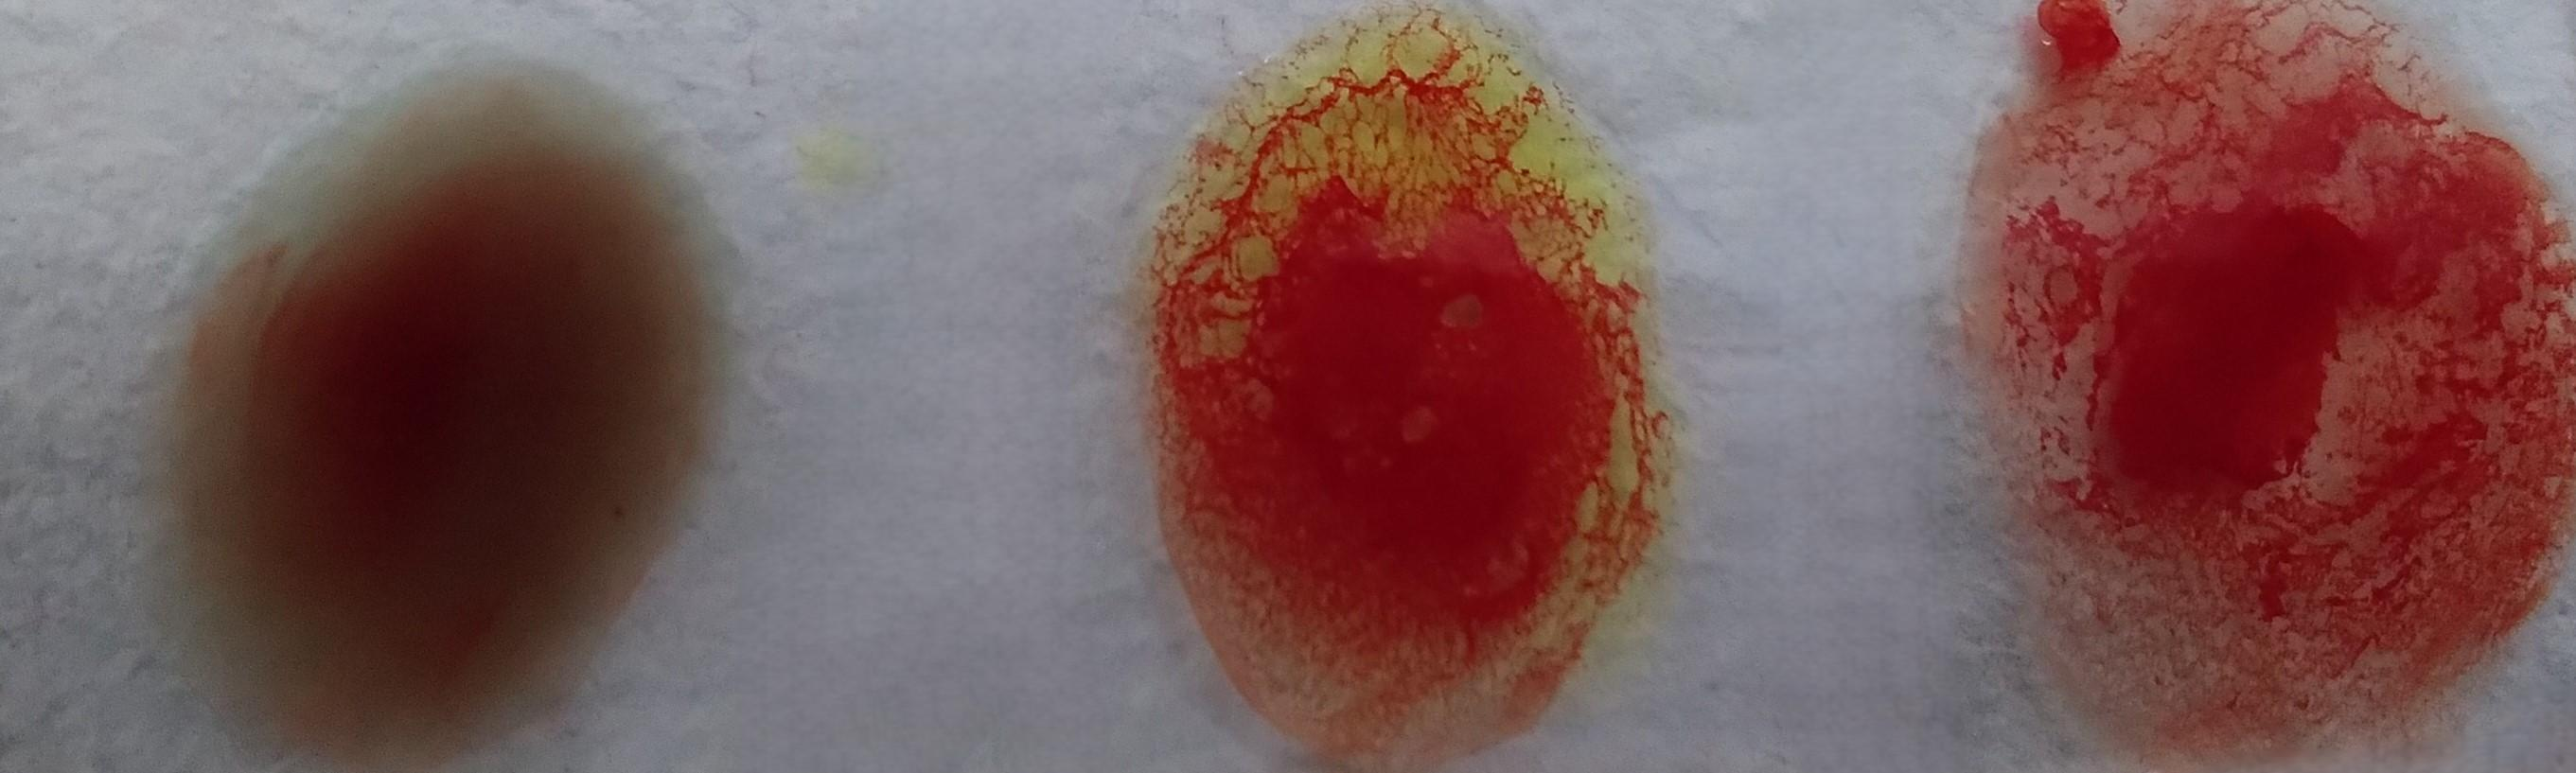B: (1153, 10, 1661, 773)
D: (1973, 25, 2576, 773)
